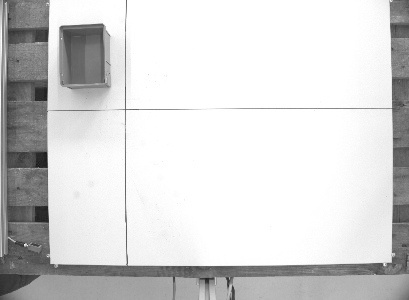klts: (54, 21, 114, 91)
